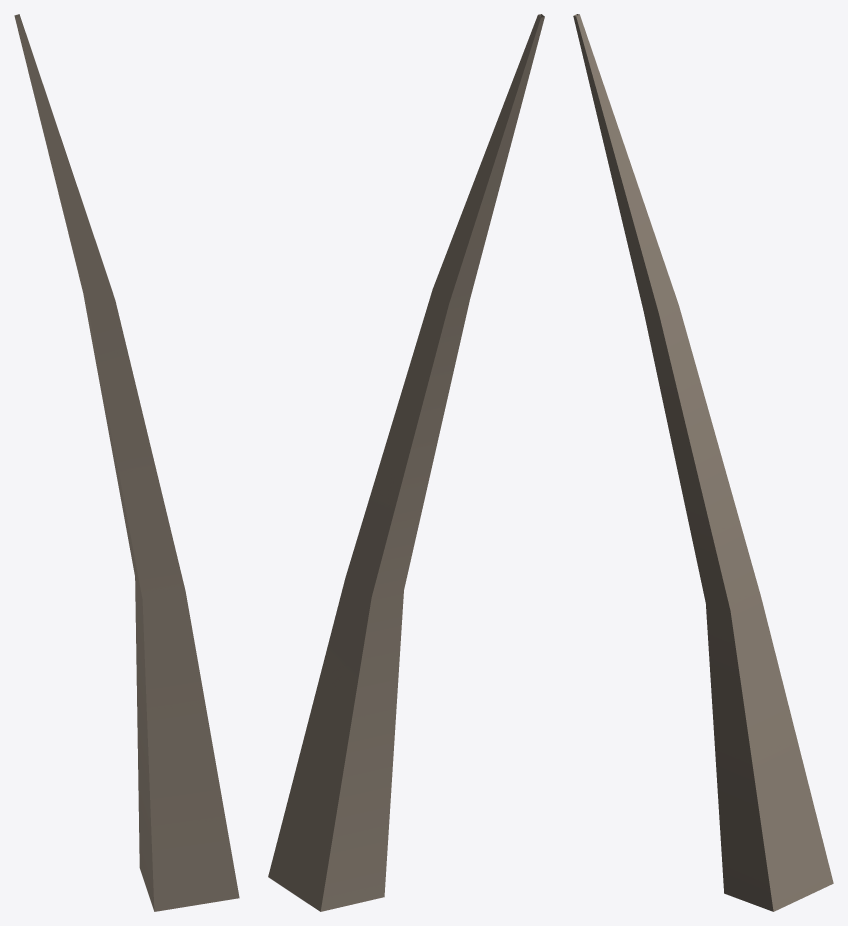
File: tree_dead_b_lod2.glb
3 views of the same model, side by side, from view 1: azimuth 30°, elevation 25°; view 2: azimuth 150°, elevation 25°; view 3: azimuth 330°, elevation 25° (orthographic). The views are drawn at different scales.
Parts seen in each view (by area): view 1: tree_dead_b_lod2; view 2: tree_dead_b_lod2; view 3: tree_dead_b_lod2.
Boxes of the visible parts, left/top/right/bottom form: tree_dead_b_lod2: left=14, top=14, right=239, bottom=911; tree_dead_b_lod2: left=268, top=14, right=544, bottom=911; tree_dead_b_lod2: left=573, top=14, right=833, bottom=911.
Bounding box in the file's own units: 2.27 × 8.22 × 0.8986.
